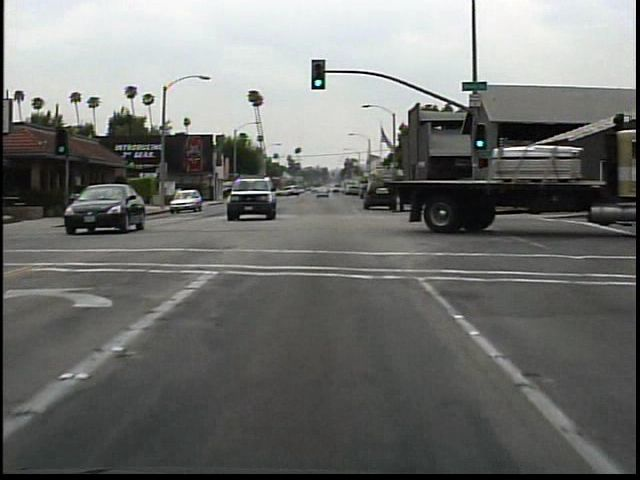person: (172, 182, 188, 206)
